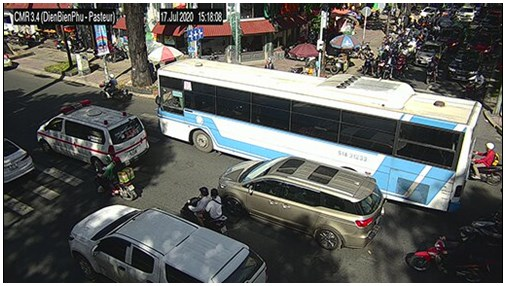xe_buyt: (154, 58, 482, 213)
xe_cuu_thuong: (36, 100, 149, 169)
xe_hoi: (218, 155, 384, 252), (69, 202, 267, 283), (4, 139, 36, 188), (447, 48, 483, 80), (415, 40, 446, 65), (457, 5, 475, 21), (419, 7, 438, 18)
xe_may: (405, 227, 492, 282), (180, 187, 228, 237), (96, 154, 137, 201), (457, 209, 502, 245), (471, 141, 502, 186), (98, 73, 127, 102), (462, 71, 484, 100), (362, 50, 377, 79), (425, 57, 439, 84), (382, 53, 396, 79), (396, 51, 407, 76)
